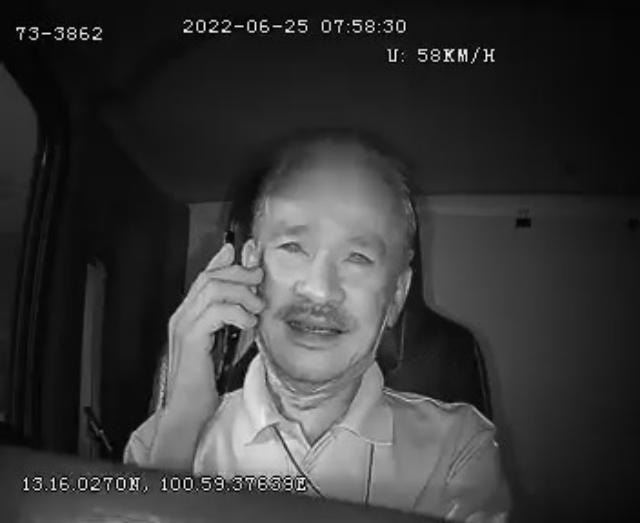PhoneUse: (205, 224, 245, 404)
SafeDriving: (334, 236, 381, 274), (269, 227, 313, 262)
